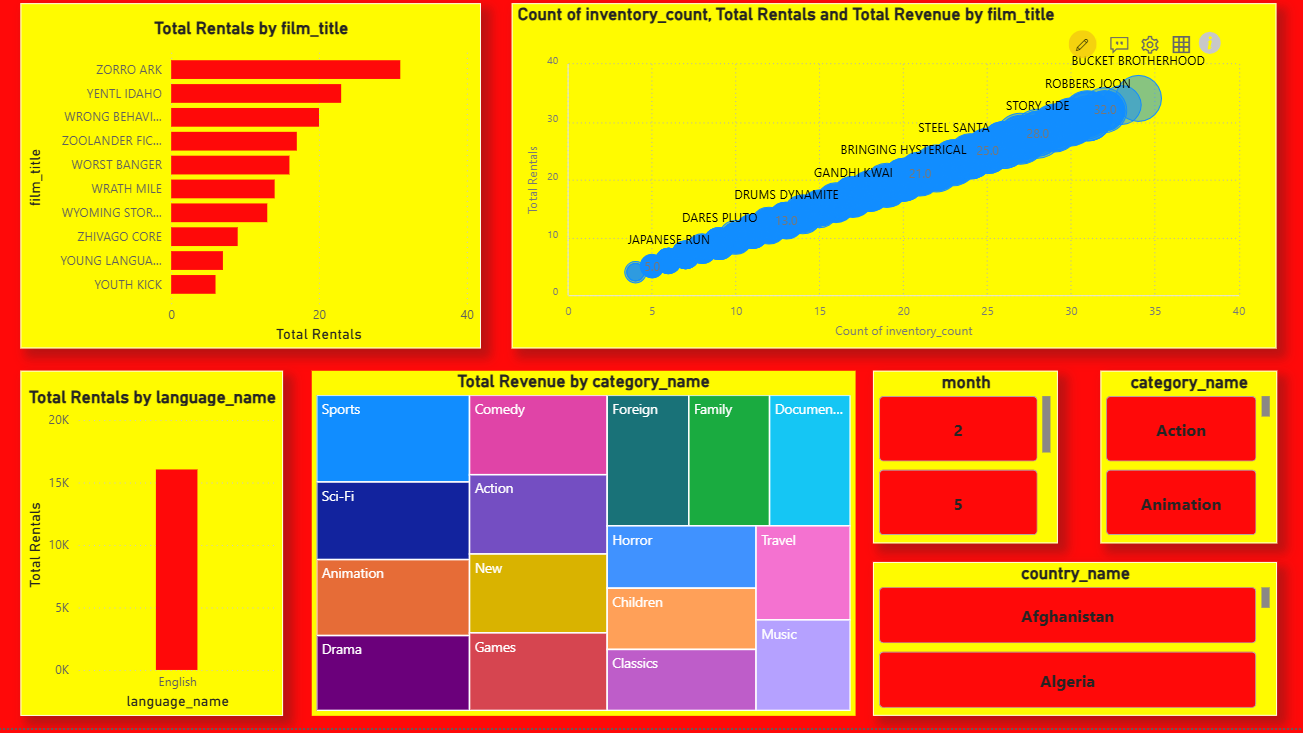

Layout of this report page (visuals, bound fields, positions):
{"tool":"powerbi","page":{"name":"Flim Inventory Analysis","canvas":[1280,720],"ordinal":3},"visuals":[{"type":"barChart","fields":{"Category":["rental.film_title"],"Y":["rental.Total Rentals"]},"box":[22,11,450,337.5],"z":0},{"type":"columnChart","fields":{"Category":["rental.language_name"],"Y":["rental.Total Rentals"]},"box":[22,370.5,256.8,337.5],"z":1000},{"type":"performanceBubbleChartFBAAA829CB604E5CAB4F21729F233294","fields":{"xmeasure":["CountNonNull(rental.inventory_count)"],"zmeasure":["rental.Total Revenue"],"ymeasure":["rental.Total Rentals"],"category":["rental.film_title"]},"box":[502.6,11,748.4,337.5],"z":2000},{"type":"treemap","fields":{"Values":["rental.Total Revenue"],"Group":["rental.category_name"]},"box":[306.9,370.5,531.9,337.5],"z":3000},{"type":"advancedSlicerVisual","fields":{"Values":["rental.month"]},"box":[856,370.5,181,168.8],"z":4000},{"type":"advancedSlicerVisual","fields":{"Values":["rental.category_name"]},"box":[1078.5,370.5,172.4,168.8],"z":5000},{"type":"advancedSlicerVisual","fields":{"Values":["rental.country_name"]},"box":[856,557.6,395,150.4],"z":6000}]}

Visuals, with their boxes in screenshot pixels (x1, y1, x2, y2), scaled from the page's 1280x720 canvas onto the 1303x733 screenshot:
barChart - rental.film_title x rental.Total Rentals: (22, 11, 480, 355)
columnChart - rental.language_name x rental.Total Rentals: (22, 377, 284, 721)
performanceBubbleChartFBAAA829CB604E5CAB4F21729F233294 - CountNonNull(rental.inventory_count) x rental.Total Revenue: (512, 11, 1273, 355)
treemap - rental.Total Revenue x rental.category_name: (312, 377, 854, 721)
advancedSlicerVisual - rental.month: (871, 377, 1056, 549)
advancedSlicerVisual - rental.category_name: (1098, 377, 1273, 549)
advancedSlicerVisual - rental.country_name: (871, 568, 1273, 721)
